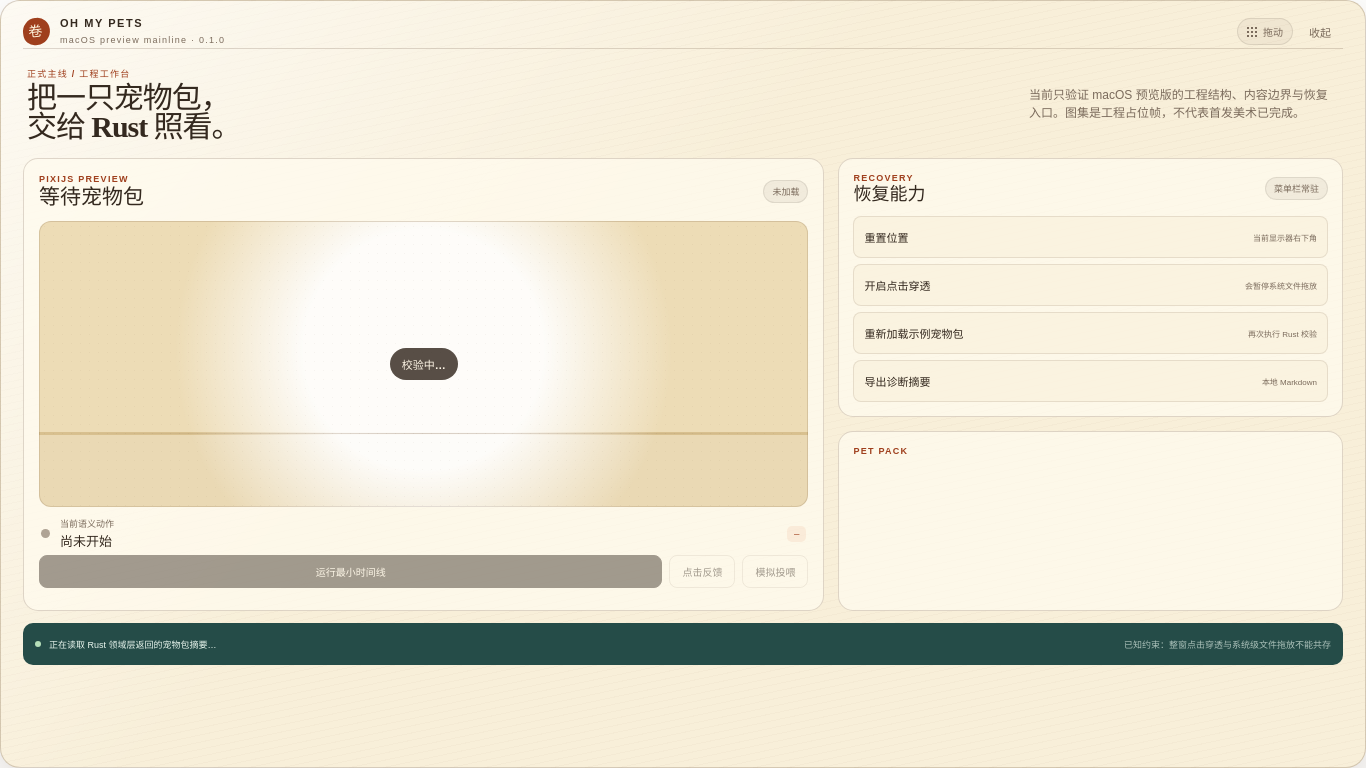
Test: 预览工作台恢复 › 通过 Rust 桌宠壳收起窗口并显示失败状态
This screenshot has width=1366, height=768.
Click the button with aria-label "隐藏窗口". click: (1320, 32)
box: [1297,18,1343,44]
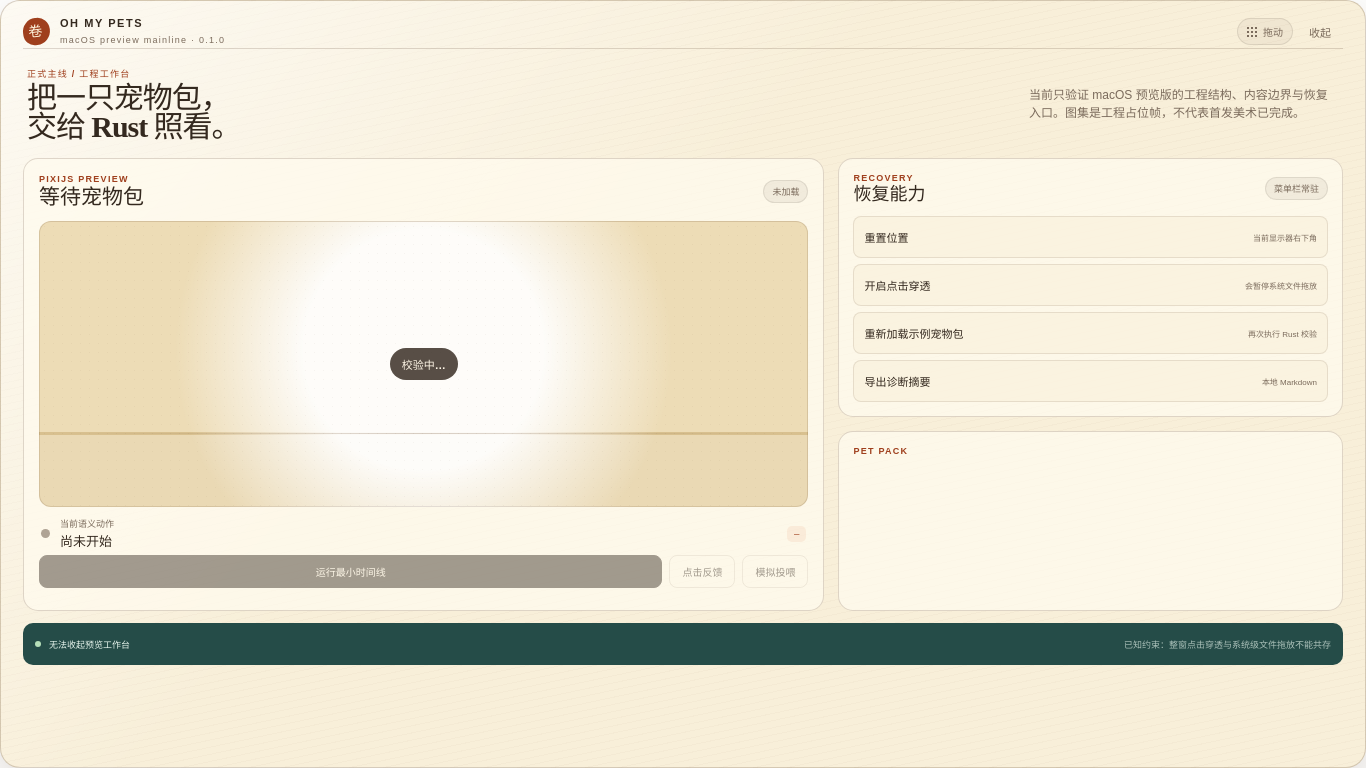
Now the text "无法收起预览工作台" is shown, box [49,638,130,651]
